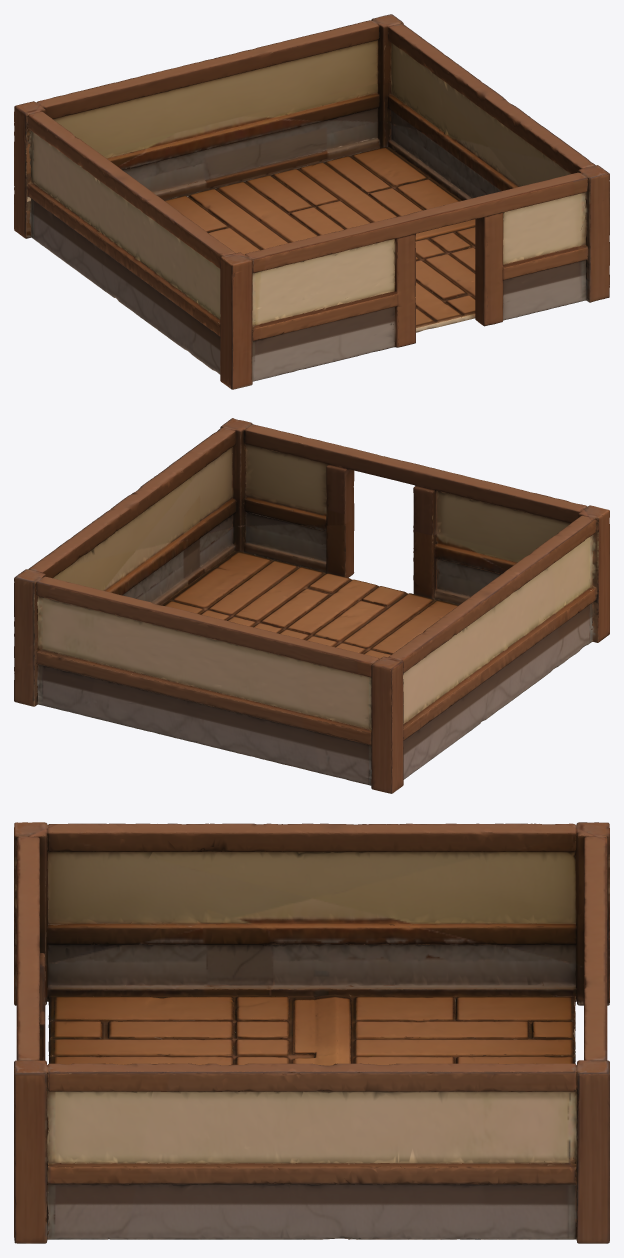
Rendered from Wooden_Building_Desig_1122223750_texture.fbx.
The picture shows the model from 3 angles, top to bottom: view 1: azimuth 30°, elevation 25°; view 2: azimuth 150°, elevation 25°; view 3: azimuth 270°, elevation 25°; orthographic projection. The views are drawn at different scales.
Parts seen in each view (by area): view 1: Mesh1.0; view 2: Mesh1.0; view 3: Mesh1.0.
Boxes of the visible parts, x1,y1,x2,y2 form: Mesh1.0: (14,14,609,389); Mesh1.0: (14,418,609,793); Mesh1.0: (14,822,609,1243).
Size of the model in its own units: 190 by 60.17 by 190.
1 material, 1 textured.
